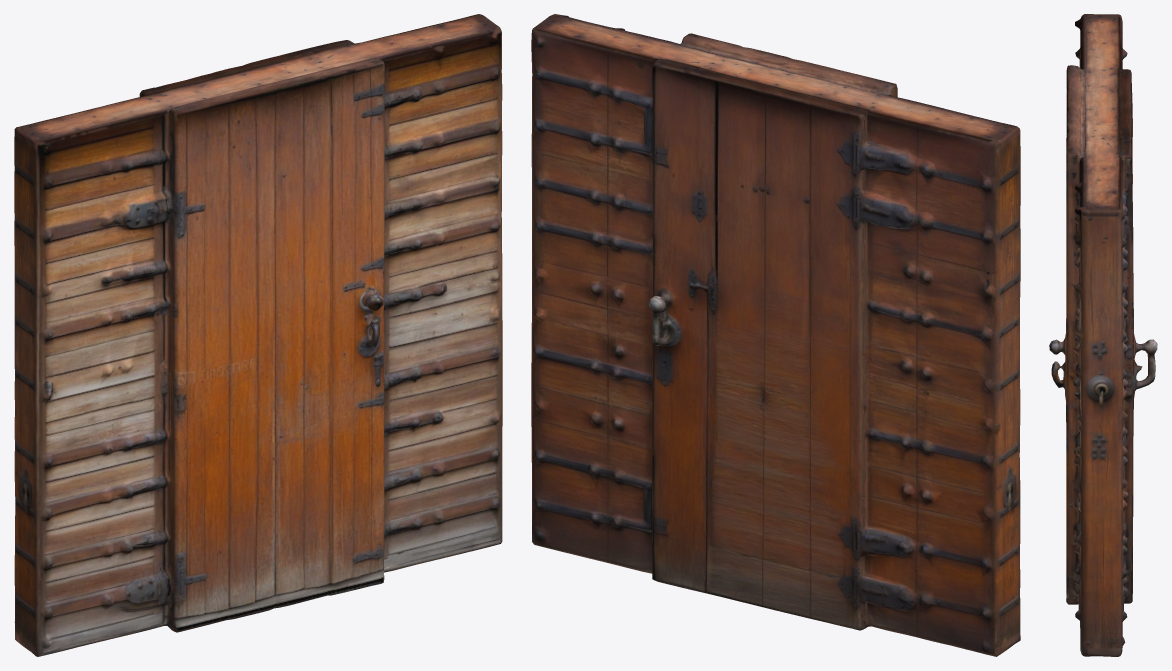
3 renders of one model, left to right at view 1: azimuth 30°, elevation 25°; view 2: azimuth 150°, elevation 25°; view 3: azimuth 270°, elevation 25°, orthographic. The views are drawn at different scales.
Visible parts, largest first — view 1: Mesh1.0; view 2: Mesh1.0; view 3: Mesh1.0.
Boxes of the visible parts, <box> form: Mesh1.0: <box>14,14,502,656</box>; Mesh1.0: <box>531,14,1020,656</box>; Mesh1.0: <box>1049,14,1157,656</box>.
Bounding box in the file's own units: 188 × 200 × 43.3.
1 material, 1 textured.
